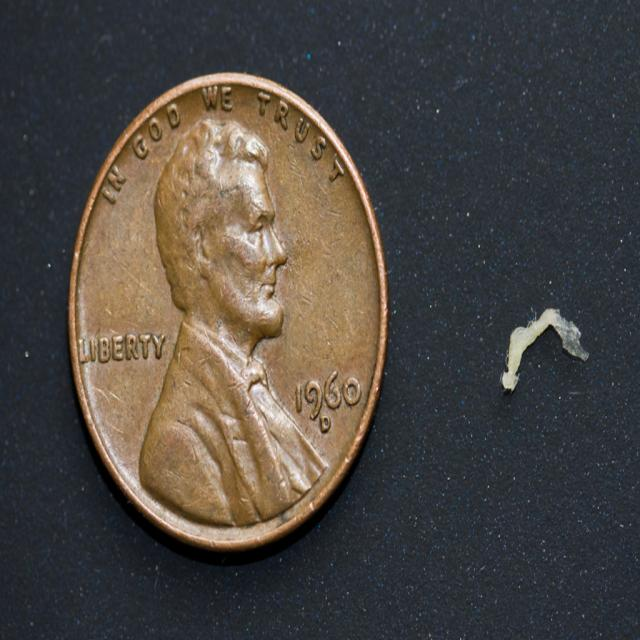Coin: (68, 69, 388, 554)
